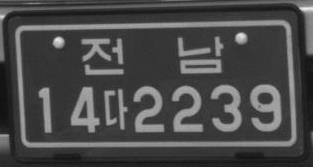1: (33, 85, 59, 134)
2: (170, 84, 204, 134), (132, 84, 165, 134)
3: (209, 83, 243, 133)
4: (68, 85, 101, 133)
9: (248, 82, 283, 133)
다: (102, 86, 129, 130)
전남_D: (80, 35, 224, 78)
